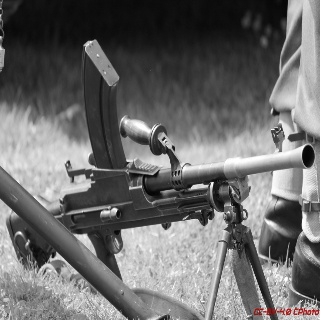rifle: (5, 38, 316, 274)
